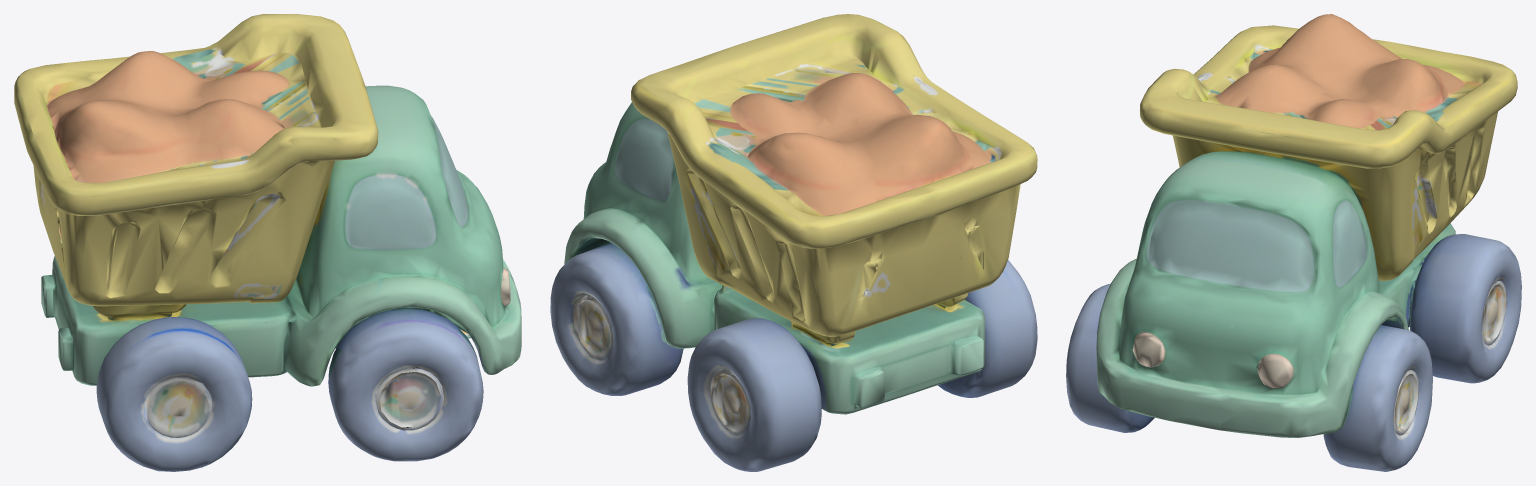
The picture shows the model from 3 angles, left to right: view 1: azimuth 30°, elevation 25°; view 2: azimuth 150°, elevation 25°; view 3: azimuth 270°, elevation 25°; orthographic projection. The views are drawn at different scales.
Visible parts, largest first — view 1: repaired; view 2: repaired; view 3: repaired.
Part boxes in pixels (left/top/right/bottom): repaired: left=14, top=14, right=521, bottom=471; repaired: left=550, top=14, right=1037, bottom=471; repaired: left=1066, top=14, right=1521, bottom=471.
Bounding box in the file's own units: 0.9994 × 0.6778 × 0.9087.
1 material, 1 textured.
